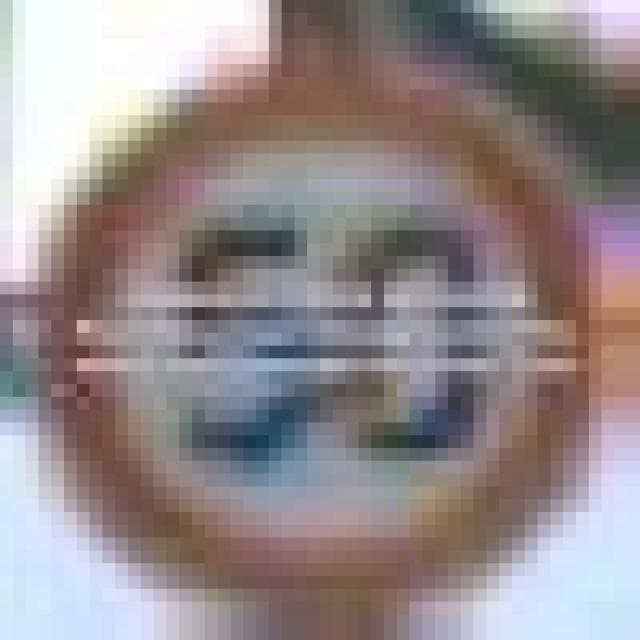speed_limit_30: (26, 51, 588, 589)
